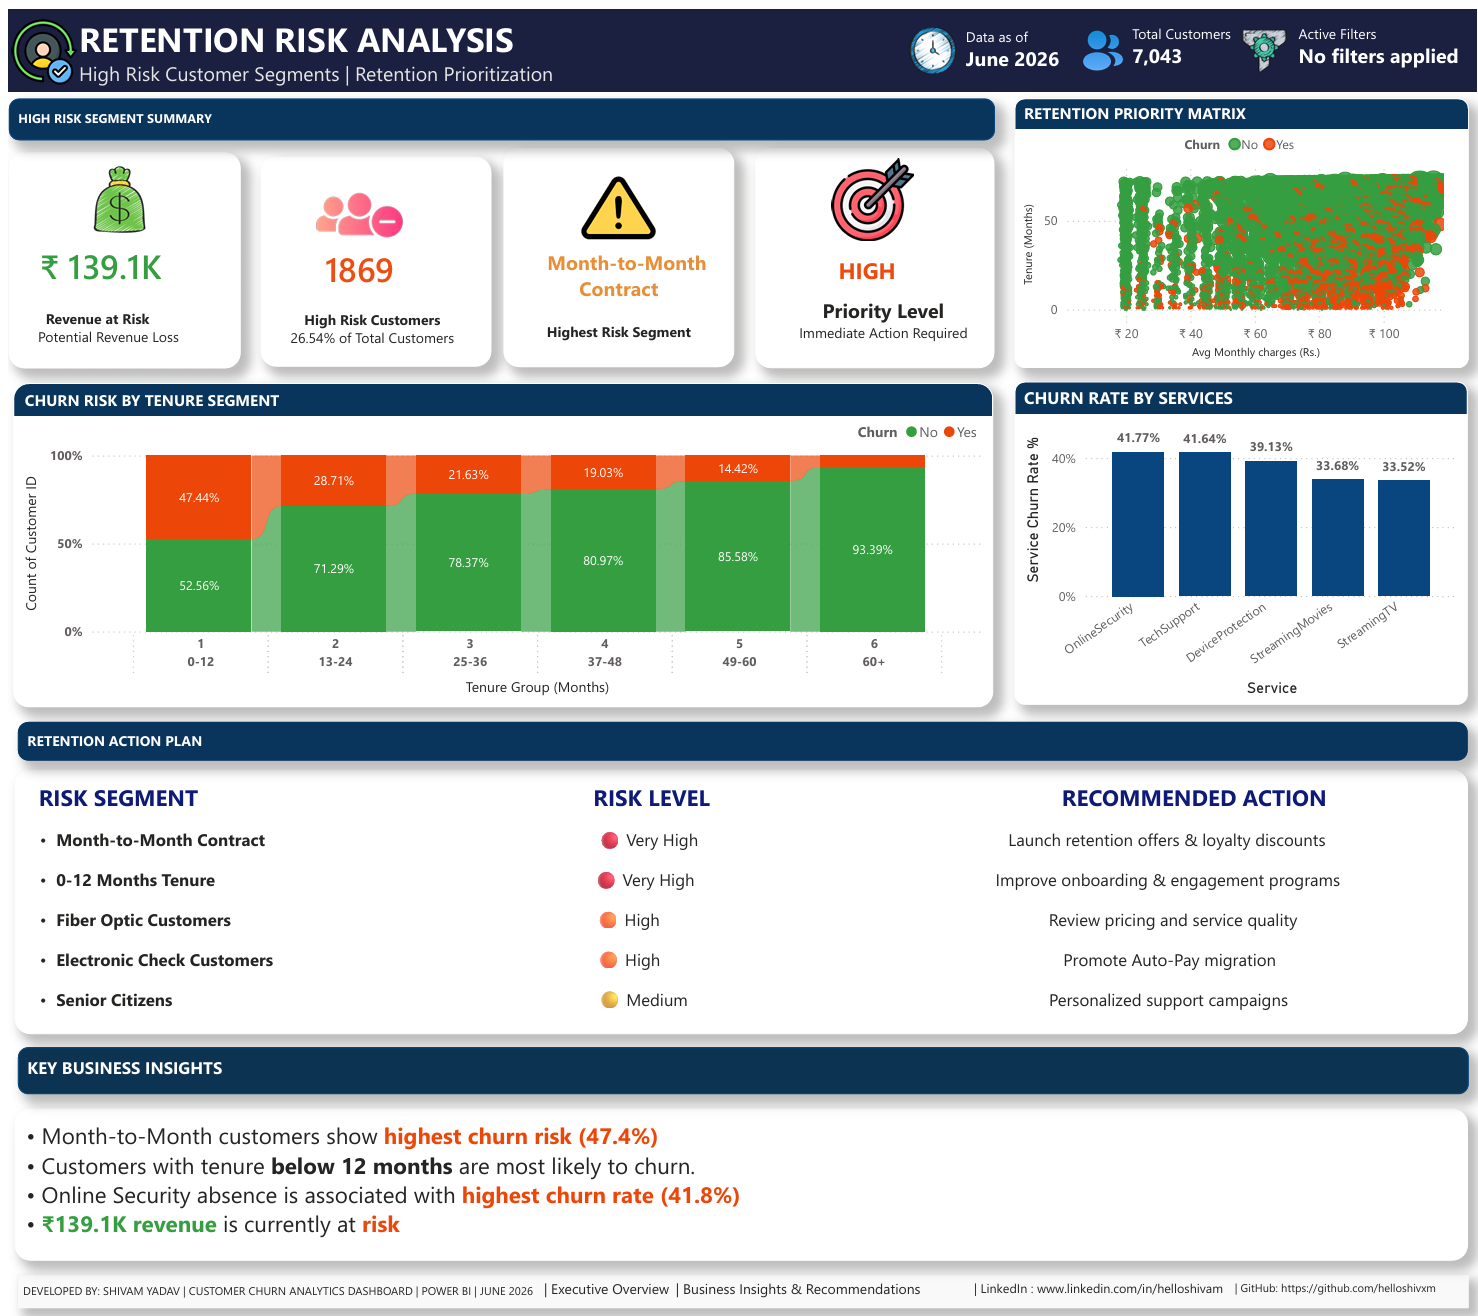

The dashboard page shown, as its layout file describes it:
{"tool":"powerbi","page":{"name":"Retention Risk Analysis","canvas":[1400,1262],"ordinal":2},"visuals":[{"type":"textbox","box":[0,0,1400,78.6],"z":0},{"type":"image","box":[0,8.8,67.5,62.5],"z":1000},{"type":"textbox","box":[907.1,11.4,102.9,54.3],"z":2000},{"type":"textbox","box":[1065.7,8.6,115.7,61.4],"z":3000},{"type":"textbox","box":[1224.3,8.6,165.7,62.9],"z":4000},{"type":"image","box":[1168.6,18.6,55.7,41.4],"z":5000},{"type":"image","box":[854.3,15.7,52.9,45.7],"z":6000},{"type":"image","box":[1020,15.7,45.7,45.7],"z":7000},{"type":"cardVisual","fields":{"Data":["Customer-Churn Cleaned csv.Revenue At Risk"]},"box":[0,135.7,221.4,205.7],"z":8000},{"type":"cardVisual","fields":{"Data":["Customer-Churn Cleaned csv.Churned Customers"]},"box":[240,140,220,200],"z":9000},{"type":"textbox","box":[471.4,131.4,220,208.6],"z":10000},{"type":"textbox","box":[488.6,292.9,185.7,28.6],"z":11000},{"type":"textbox","box":[22.9,280,177.1,52.9],"z":12000},{"type":"textbox","box":[251.4,281.4,190,51.4],"z":13000},{"type":"image","box":[67.1,148.6,77.1,64.3],"z":14000},{"type":"image","box":[284.3,148.6,100,94.3],"z":15000},{"type":"image","box":[527.1,148.6,108.6,80],"z":16000},{"type":"textbox","box":[711.7,131.7,228.3,210],"z":17000},{"type":"image","box":[784.3,135.7,78.6,91.4],"z":18000},{"type":"textbox","box":[785.7,228.6,78.6,41.4],"z":19000},{"type":"textbox","box":[738.6,268.6,190,52.9],"z":20000},{"type":"hundredPercentStackedColumnChart","title":"CHURN RISK BY TENURE SEGMENT","fields":{"Category":["Customer-Churn Cleaned csv.Tenure Group","Customer-Churn Cleaned csv.TenureSort"],"Series":["Customer-Churn Cleaned csv.Churn"],"Y":["CountNonNull(Customer-Churn Cleaned csv.CustomerID)"]},"box":[4.3,355.7,934.3,308.6],"z":21000},{"type":"textbox","box":[5,725,1385,251.7],"z":22000},{"type":"textbox","box":[0,85,940,40],"z":23000},{"type":"textbox","box":[8.3,678.3,1381.7,36.7],"z":24000},{"type":"scatterChart","title":"RETENTION PRIORITY MATRIX","fields":{"X":["Customer-Churn Cleaned csv.MonthlyCharges"],"Y":["Customer-Churn Cleaned csv.Tenure"],"Series":["Customer-Churn Cleaned csv.Churn"],"Size":["Sum(Customer-Churn Cleaned csv.TotalCharges)"]},"box":[958.3,85,433.3,256.7],"z":25000},{"type":"clusteredColumnChart","title":"CHURN RATE BY SERVICES ","fields":{"Category":["ServiceTable.Service"],"Y":["Customer-Churn Cleaned csv.Service Churn Rate %"]},"box":[958.3,355,431.7,308.3],"z":25001},{"type":"textbox","box":[5,1046.7,1385,145],"z":25002},{"type":"textbox","box":[8.3,988.3,1383.3,45],"z":25003},{"type":"textbox","box":[8.3,1205,1383.3,31.7],"z":25004},{"type":"actionButton","title":"| Executive Overview","box":[510,1210,143.3,26.7],"z":25005},{"type":"actionButton","title":"| Business Insights & Recommendations","box":[635,1210,258.3,25],"z":25006},{"type":"actionButton","title":"| LinkedIn : www.linkedin.com/in/helloshivam","box":[920,1210,290,31.4],"z":25007},{"type":"actionButton","title":"| GitHub: https://github.com/helloshivxm","box":[1168.6,1210,231.4,17.1],"z":25008}]}

Visuals, with their boxes in screenshot pixels (x1, y1, x2, y2), scaled from the page's 1400x1262 canvas onto the 1478x1316 screenshot:
textbox: {"x1": 0, "y1": 0, "x2": 1477, "y2": 82}
image: {"x1": 0, "y1": 9, "x2": 71, "y2": 74}
textbox: {"x1": 958, "y1": 12, "x2": 1066, "y2": 69}
textbox: {"x1": 1125, "y1": 9, "x2": 1247, "y2": 73}
textbox: {"x1": 1293, "y1": 9, "x2": 1467, "y2": 75}
image: {"x1": 1234, "y1": 19, "x2": 1293, "y2": 63}
image: {"x1": 902, "y1": 16, "x2": 958, "y2": 64}
image: {"x1": 1077, "y1": 16, "x2": 1125, "y2": 64}
cardVisual - Customer-Churn Cleaned csv.Revenue At Risk: {"x1": 0, "y1": 142, "x2": 234, "y2": 356}
cardVisual - Customer-Churn Cleaned csv.Churned Customers: {"x1": 253, "y1": 146, "x2": 486, "y2": 355}
textbox: {"x1": 498, "y1": 137, "x2": 730, "y2": 355}
textbox: {"x1": 516, "y1": 305, "x2": 712, "y2": 335}
textbox: {"x1": 24, "y1": 292, "x2": 211, "y2": 347}
textbox: {"x1": 265, "y1": 293, "x2": 466, "y2": 347}
image: {"x1": 71, "y1": 155, "x2": 152, "y2": 222}
image: {"x1": 300, "y1": 155, "x2": 406, "y2": 253}
image: {"x1": 556, "y1": 155, "x2": 671, "y2": 238}
textbox: {"x1": 751, "y1": 137, "x2": 992, "y2": 356}
image: {"x1": 828, "y1": 142, "x2": 911, "y2": 237}
textbox: {"x1": 829, "y1": 238, "x2": 912, "y2": 282}
textbox: {"x1": 780, "y1": 280, "x2": 980, "y2": 335}
"CHURN RISK BY TENURE SEGMENT" hundredPercentStackedColumnChart: {"x1": 5, "y1": 371, "x2": 991, "y2": 693}
textbox: {"x1": 5, "y1": 756, "x2": 1467, "y2": 1018}
textbox: {"x1": 0, "y1": 89, "x2": 992, "y2": 130}
textbox: {"x1": 9, "y1": 707, "x2": 1467, "y2": 746}
"RETENTION PRIORITY MATRIX" scatterChart: {"x1": 1012, "y1": 89, "x2": 1469, "y2": 356}
"CHURN RATE BY SERVICES " clusteredColumnChart: {"x1": 1012, "y1": 370, "x2": 1467, "y2": 692}
textbox: {"x1": 5, "y1": 1091, "x2": 1467, "y2": 1243}
textbox: {"x1": 9, "y1": 1031, "x2": 1469, "y2": 1078}
textbox: {"x1": 9, "y1": 1257, "x2": 1469, "y2": 1290}
"| Executive Overview" actionButton: {"x1": 538, "y1": 1262, "x2": 690, "y2": 1290}
"| Business Insights & Recommendations" actionButton: {"x1": 670, "y1": 1262, "x2": 943, "y2": 1288}
"| LinkedIn : www.linkedin.com/in/helloshivam" actionButton: {"x1": 971, "y1": 1262, "x2": 1277, "y2": 1295}
"| GitHub: https://github.com/helloshivxm" actionButton: {"x1": 1234, "y1": 1262, "x2": 1477, "y2": 1280}
